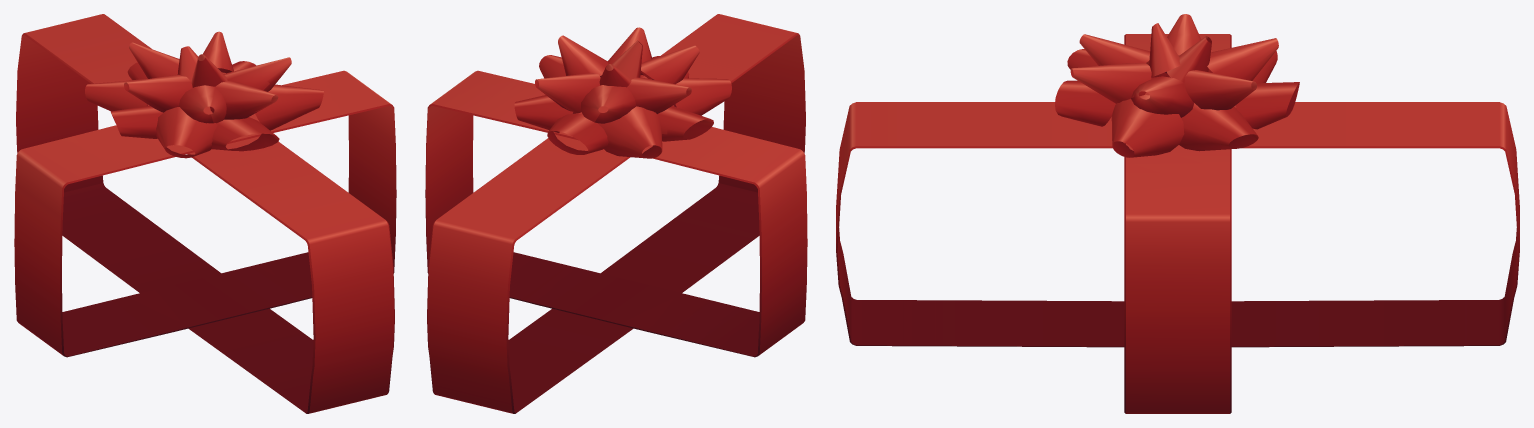
File: ribbon.glb
3 views of the same model, side by side, from view 1: azimuth 30°, elevation 25°; view 2: azimuth 150°, elevation 25°; view 3: azimuth 270°, elevation 25° (orthographic). The views are drawn at different scales.
Parts seen in each view (by area): view 1: Ribbon_Ribbon_0; view 2: Ribbon_Ribbon_0; view 3: Ribbon_Ribbon_0.
Part boxes in pixels (x1,y1,x2,y2): Ribbon_Ribbon_0: [14, 14, 396, 413]; Ribbon_Ribbon_0: [425, 14, 807, 413]; Ribbon_Ribbon_0: [836, 14, 1519, 413].
Bounding box in the file's own units: 31.15 × 22.83 × 47.92.
Materials: 1 (1 with a texture image).
